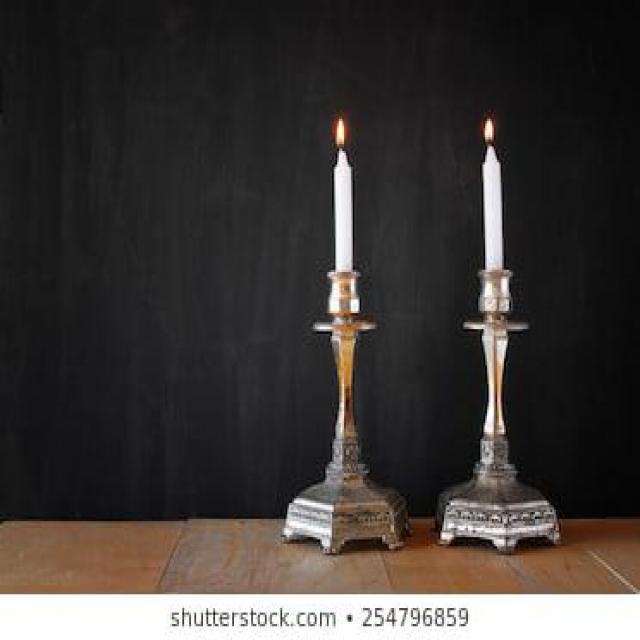Fire: (334, 118, 346, 148), (486, 116, 494, 146)
